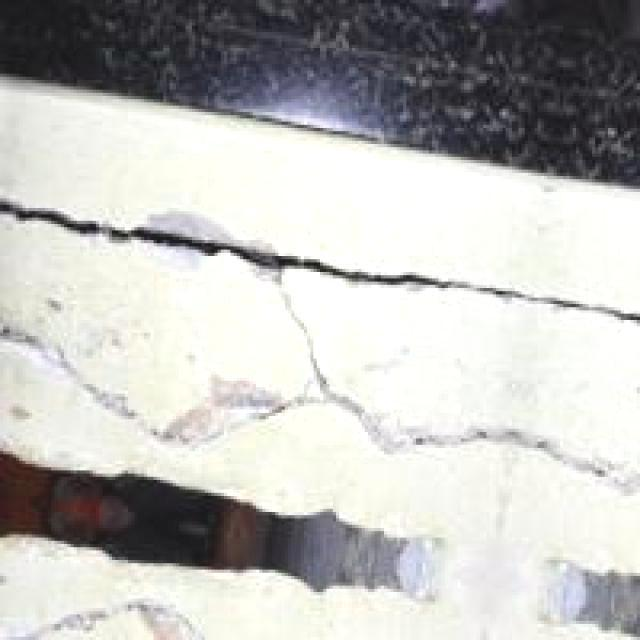crack: (0, 172, 640, 360)
